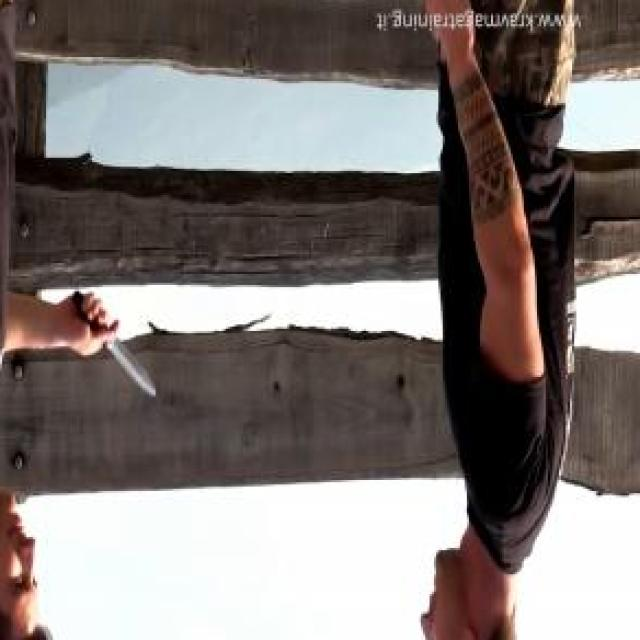knife: (66, 282, 162, 408)
